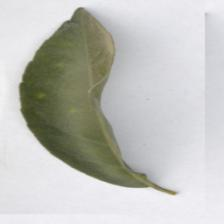healthy: (19, 7, 150, 188)
